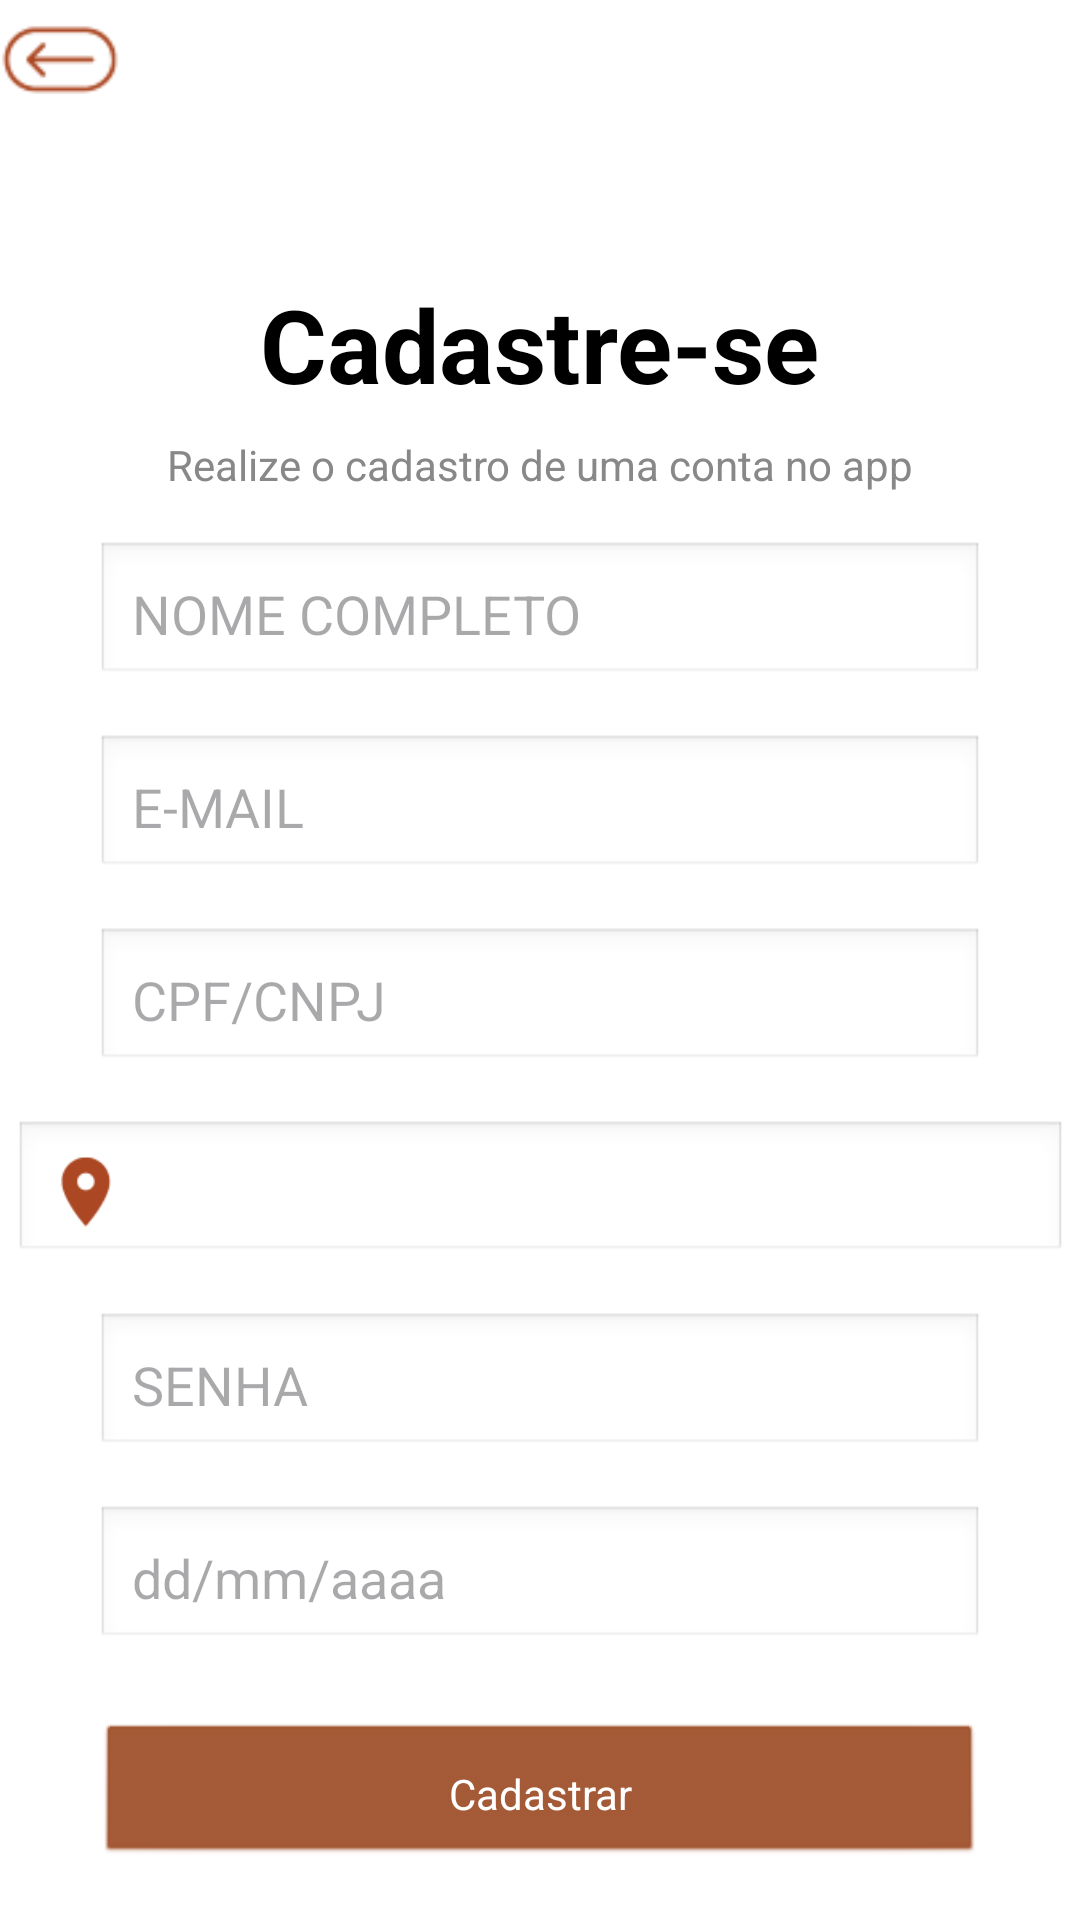

Where to tap for icons on this 1080 x 1920 app screen, as [x,y]:
back arrow: [60,60]
map: [86,1192]
